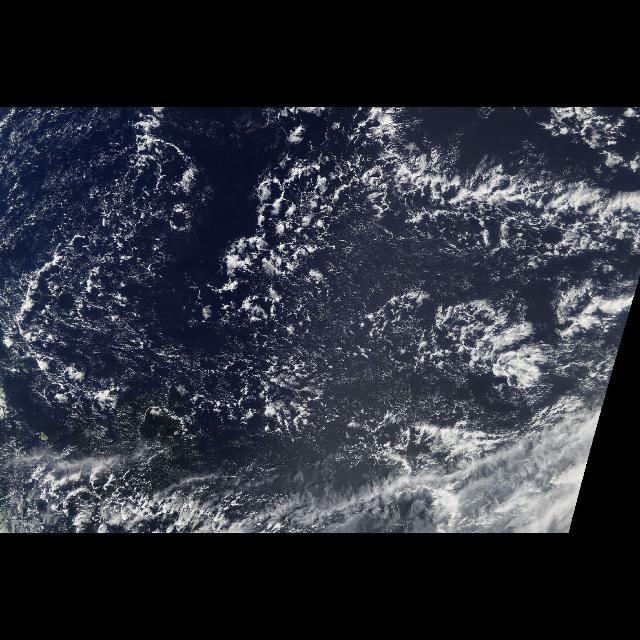Fish: (320, 115, 640, 395)
Gravel: (1, 110, 624, 480)
